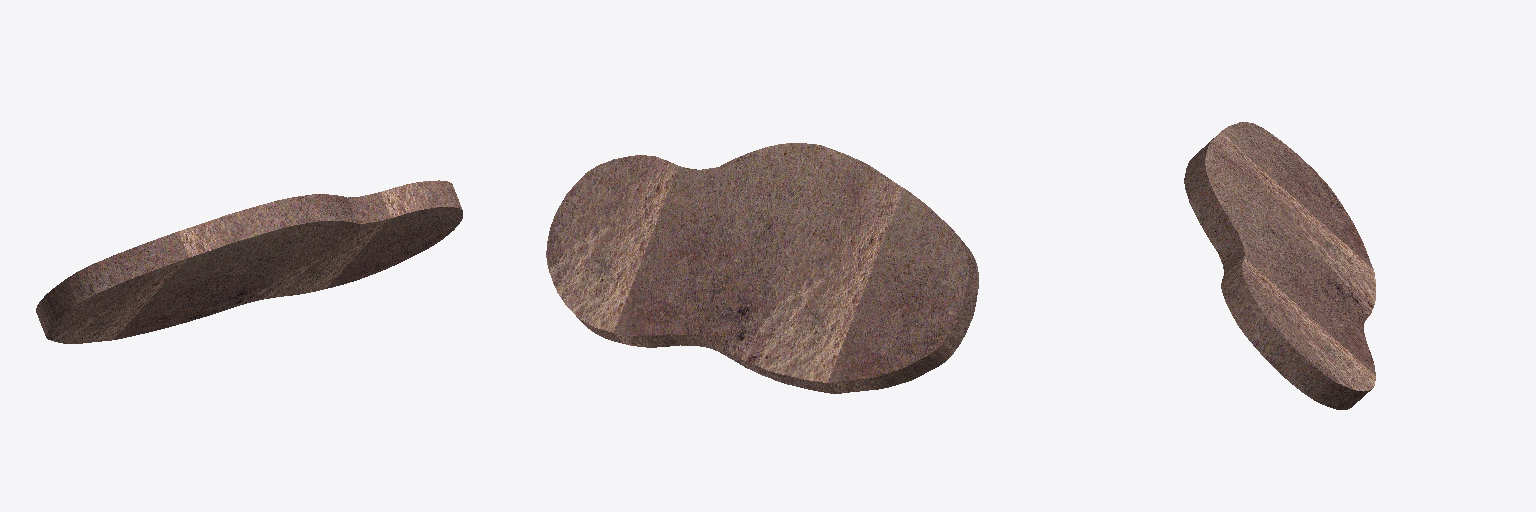
The picture shows the model from 3 angles: view 1: azimuth 30°, elevation 25°; view 2: azimuth 150°, elevation 25°; view 3: azimuth 270°, elevation 25°; orthographic projection.
Visible parts, largest first — view 1: Layer_0; view 2: Layer_0; view 3: Layer_0.
Boxes of the visible parts, x1=… form: Layer_0: x1=36, y1=180, x2=462, y2=343; Layer_0: x1=546, y1=143, x2=978, y2=393; Layer_0: x1=1184, y1=122, x2=1375, y2=409.
Bounding box in the file's own units: 3.91 × 1.61 × 1.61.
Materials: 1 (1 with a texture image).